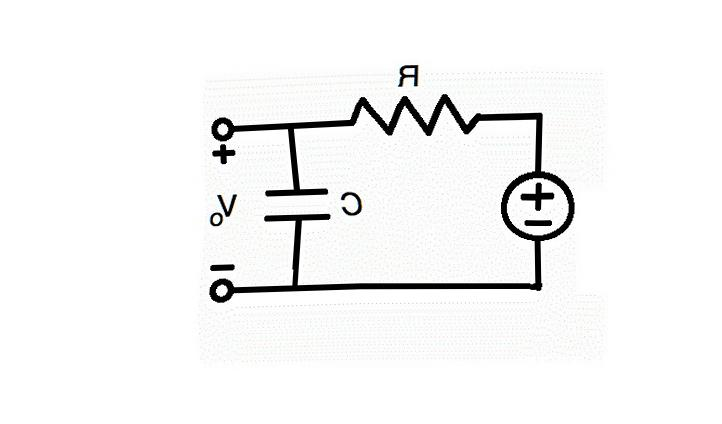Battery: (481, 159, 583, 251)
